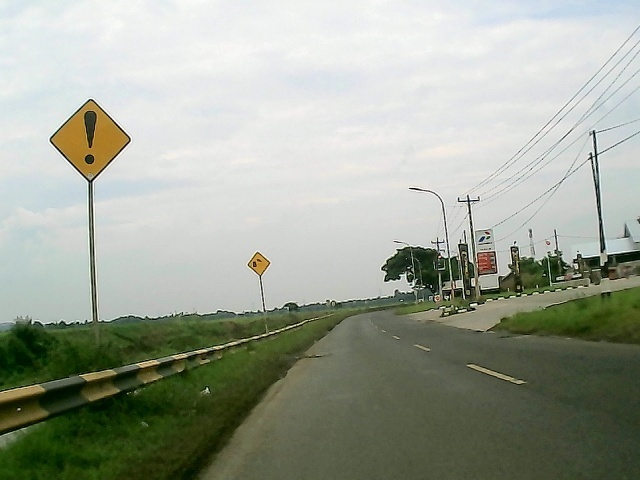Hati-hati: (48, 96, 134, 184)
Peringatan tepi air: (246, 248, 273, 279)
